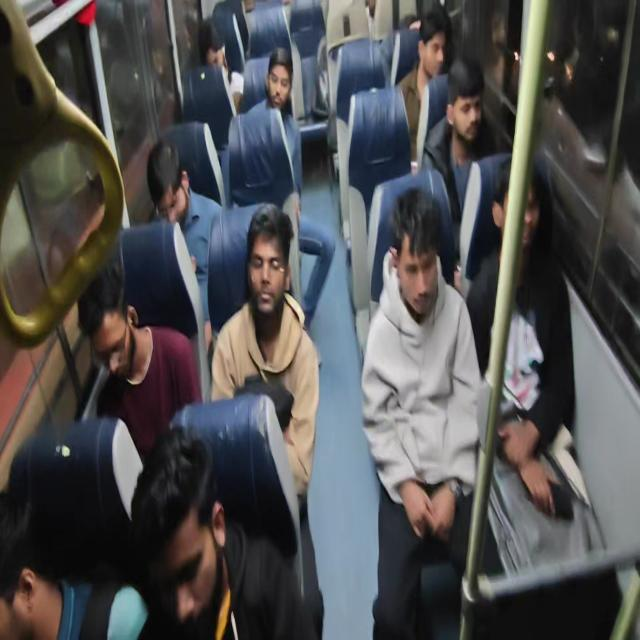person: (360, 186, 486, 638), (210, 203, 324, 636), (129, 425, 319, 638), (466, 159, 576, 520), (1, 415, 147, 639), (77, 242, 202, 462), (421, 54, 497, 264), (146, 138, 222, 344), (245, 46, 303, 213), (395, 3, 452, 171), (197, 18, 244, 114)
